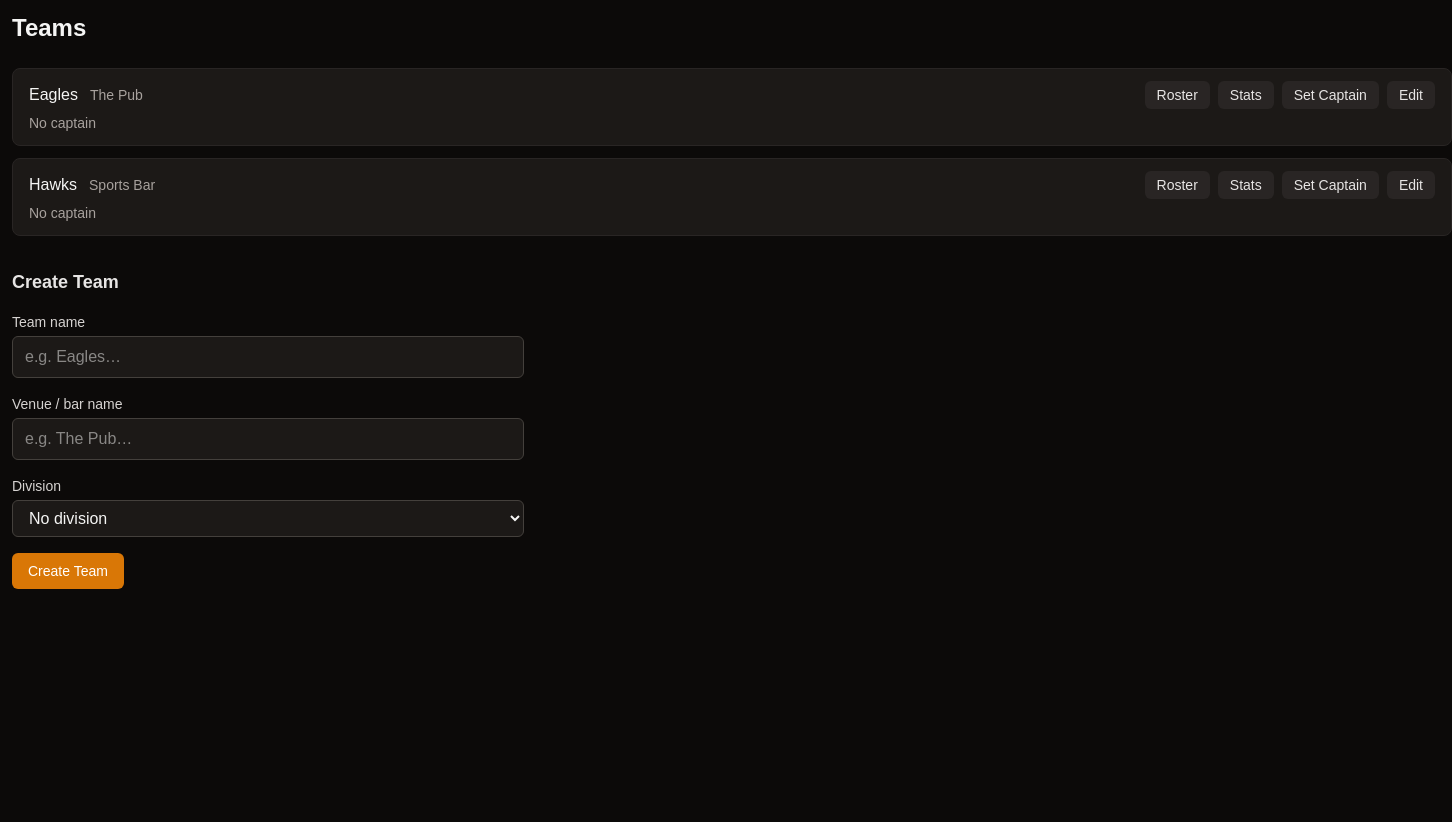
TeamsPage › shows edit form when edit is clicked
The image size is (1452, 822).
Click the button "Edit" in the row of "The Pub".
click(1411, 95)  # box [1387,81,1435,109]
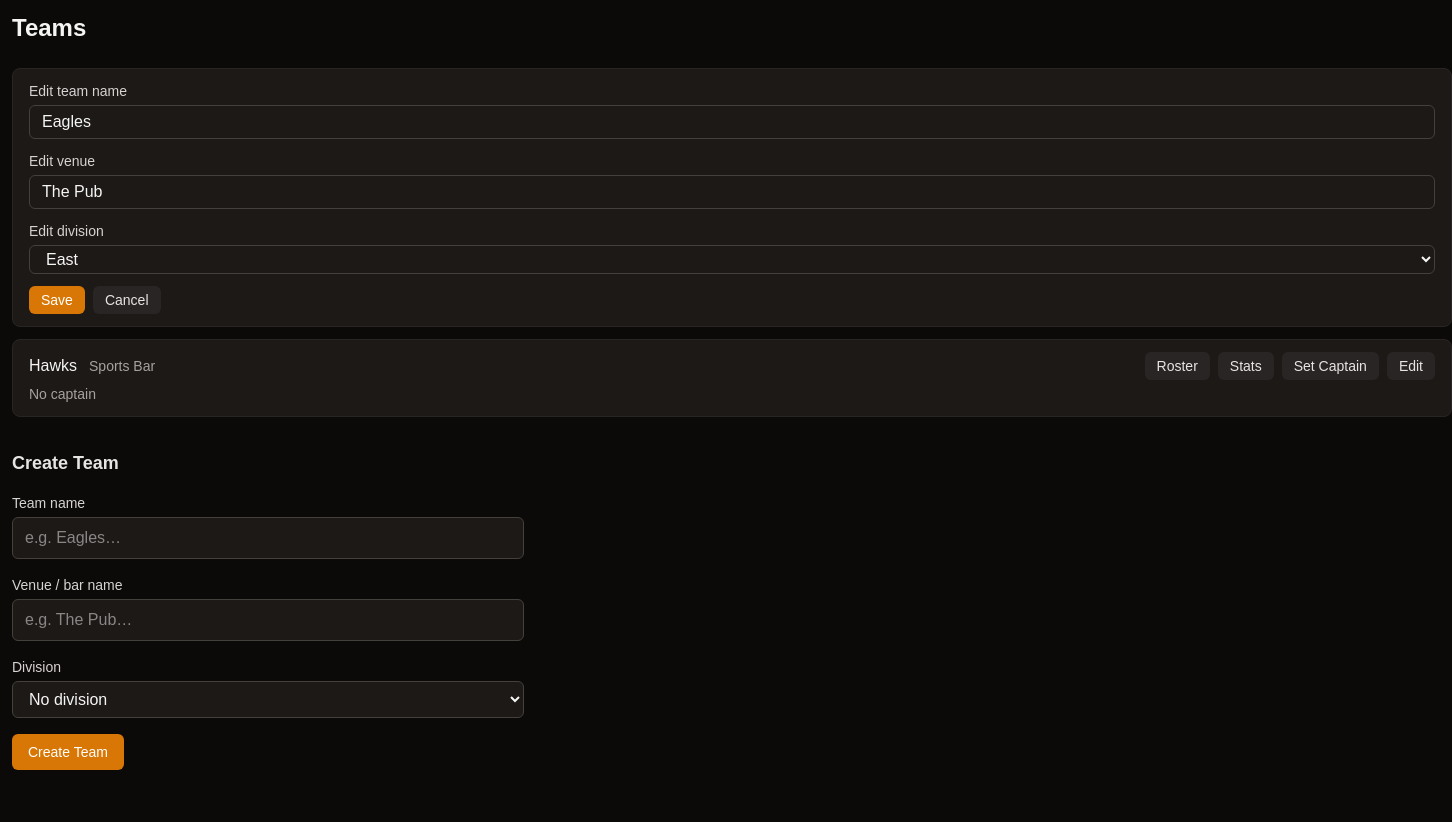
Expected: the field labelled "Edit team name" is shown, [29,105,1435,139]
